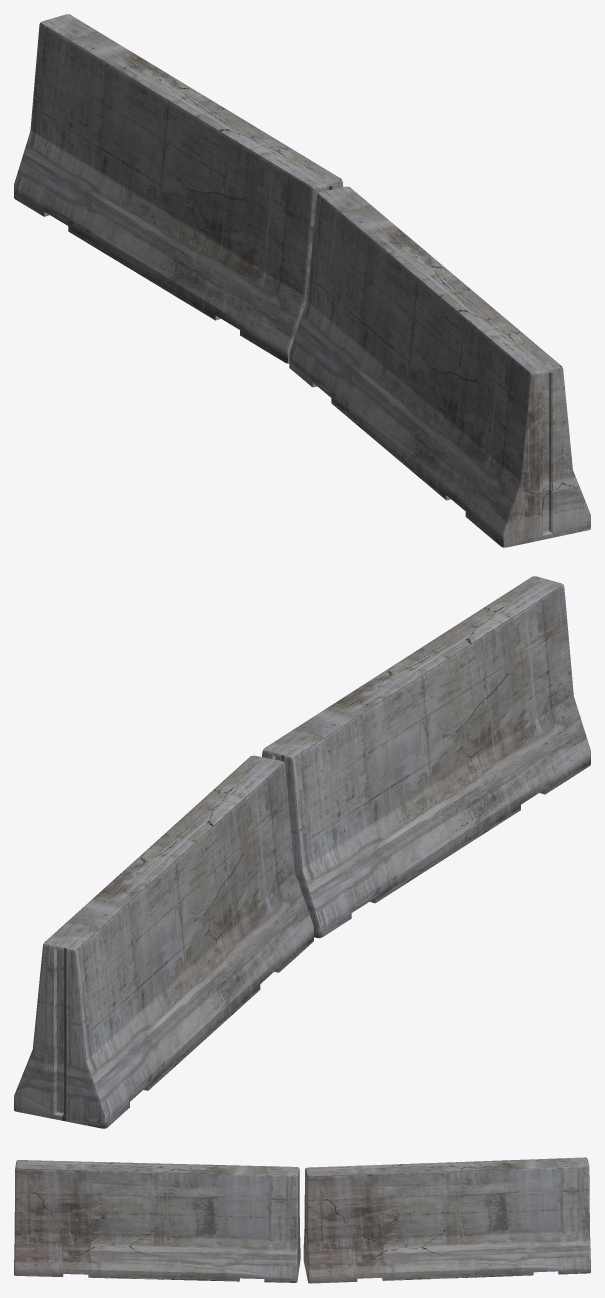
File: City_Barricade006.fbx
3 views of the same model, one above another, from view 1: azimuth 30°, elevation 25°; view 2: azimuth 150°, elevation 25°; view 3: azimuth 270°, elevation 25° (orthographic). The views are drawn at different scales.
Visible parts, largest first — view 1: City_Barricade_006:Barricade_006; view 2: City_Barricade_006:Barricade_006; view 3: City_Barricade_006:Barricade_006.
Boxes of the visible parts, x1,y1,x2,y2 form: City_Barricade_006:Barricade_006: [14, 14, 590, 547]; City_Barricade_006:Barricade_006: [14, 576, 590, 1128]; City_Barricade_006:Barricade_006: [14, 1157, 590, 1283].
Bounding box in the file's own units: 86.82 × 115 × 606.
Materials: 1 (1 with a texture image).
